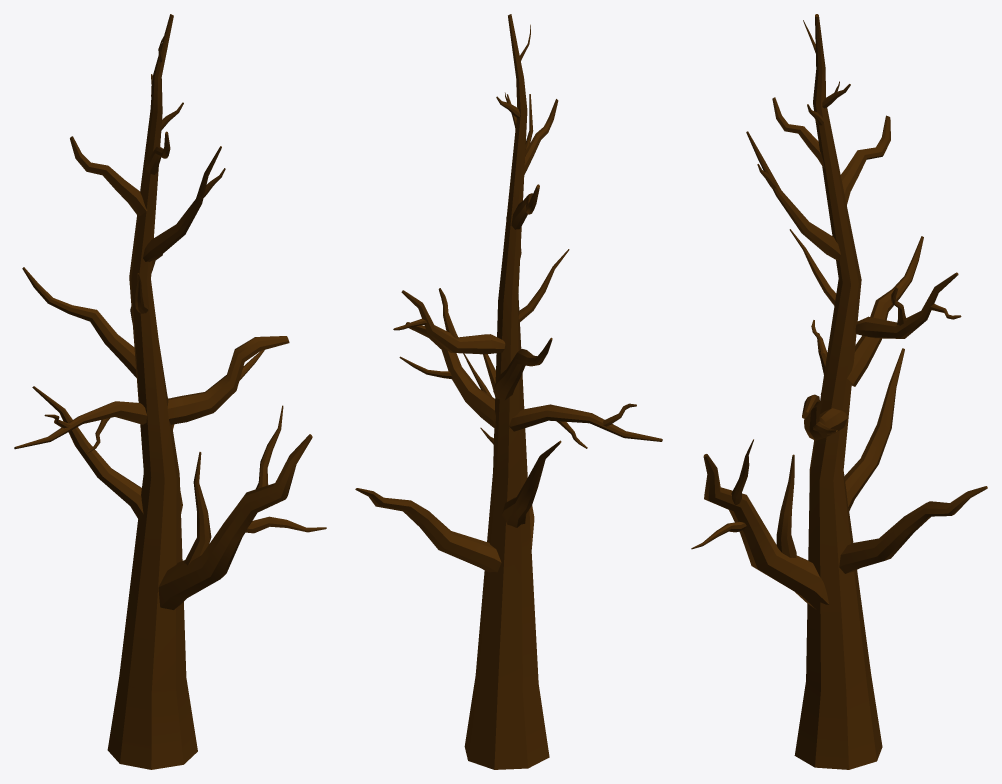
File: christmasFatherTree.dae
3 views of the same model, side by side, from view 1: azimuth 30°, elevation 25°; view 2: azimuth 150°, elevation 25°; view 3: azimuth 270°, elevation 25° (orthographic).
Visible parts, largest first — view 1: Father_tree; view 2: Father_tree; view 3: Father_tree.
Part boxes in pixels (x1,y1,x2,y2): Father_tree: (14, 14, 326, 769); Father_tree: (355, 14, 662, 769); Father_tree: (691, 14, 987, 769).
Bounding box in the file's own units: 0.0554 × 0.0534 × 0.1471.
